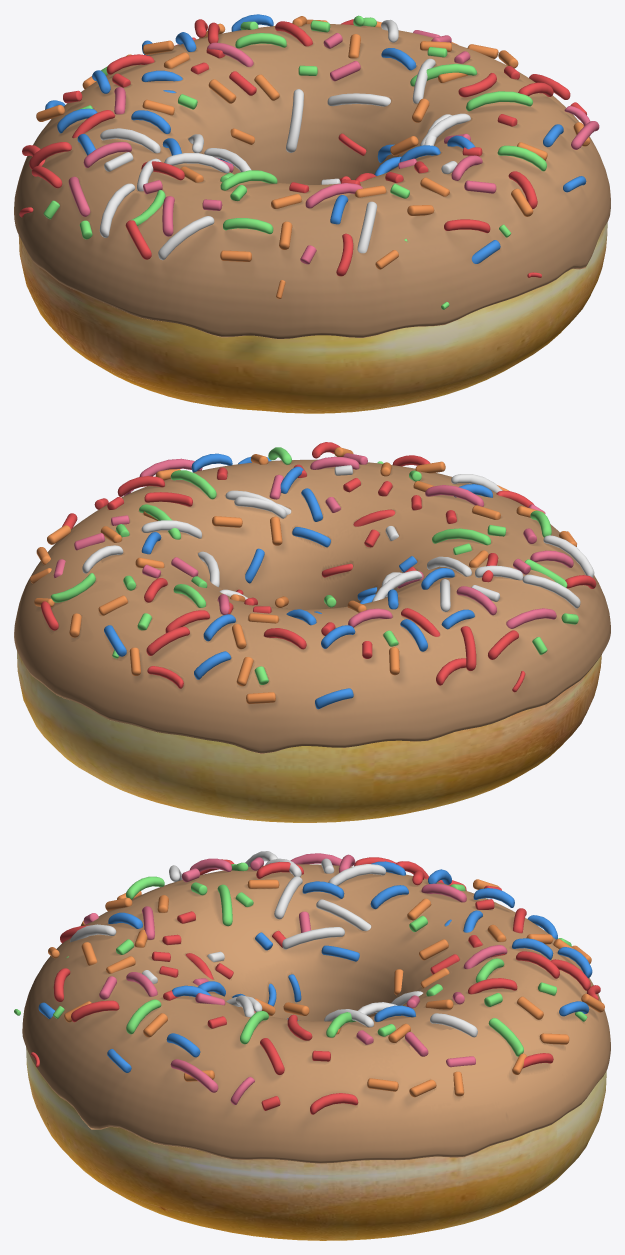
The model's file is light rainbow vermicheli.glb.
3 renders of one model, top to bottom at view 1: azimuth 30°, elevation 25°; view 2: azimuth 150°, elevation 25°; view 3: azimuth 270°, elevation 25°, orthographic. The views are drawn at different scales.
Parts seen in each view (by area): view 1: coffee.001, light, blue.002, Torus; view 2: light, coffee.001, blue.002, Torus; view 3: light, coffee.001, Torus, blue.002.
Boxes of the visible parts, left/top/right/bottom form: coffee.001: left=14, top=24, right=610, bottom=338; light: left=14, top=24, right=610, bottom=339; blue.002: left=19, top=14, right=599, bottom=309; Torus: left=18, top=222, right=607, bottom=413; light: left=14, top=460, right=606, bottom=753; coffee.001: left=14, top=459, right=610, bottom=753; blue.002: left=30, top=442, right=596, bottom=709; Torus: left=17, top=651, right=601, bottom=822; light: left=23, top=864, right=610, bottom=1163; coffee.001: left=22, top=864, right=610, bottom=1163; Torus: left=26, top=1047, right=606, bottom=1240; blue.002: left=14, top=851, right=604, bottom=1114.
Size of the model in its own units: 0.1989 by 0.0773 by 0.2.
9 materials, 2 textured.
